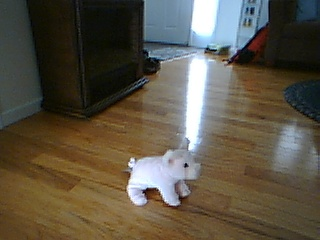piggy: (125, 137, 202, 208)
